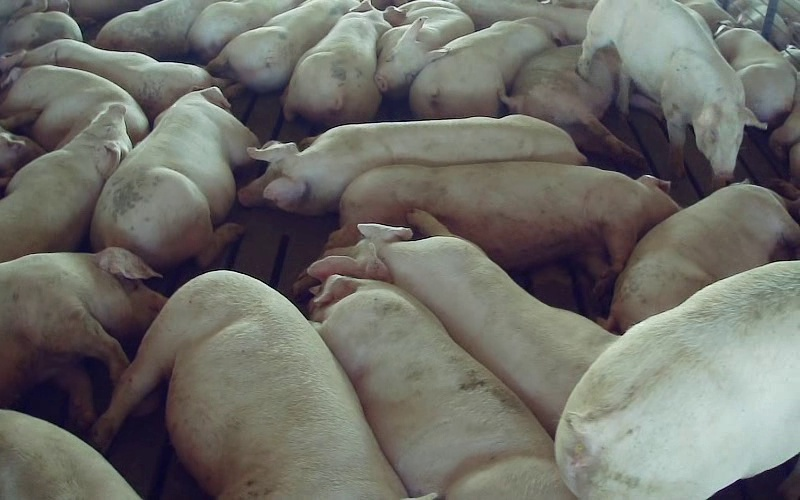pig: (93, 272, 405, 499), (308, 210, 616, 433), (311, 275, 572, 499), (556, 261, 799, 499), (326, 161, 678, 280), (578, 0, 764, 189), (238, 115, 585, 214), (90, 88, 257, 271), (0, 247, 165, 426), (608, 184, 799, 331), (0, 104, 131, 261), (501, 45, 645, 167), (283, 0, 405, 126), (409, 18, 554, 118), (375, 0, 473, 97), (715, 28, 795, 128), (187, 0, 302, 62)
